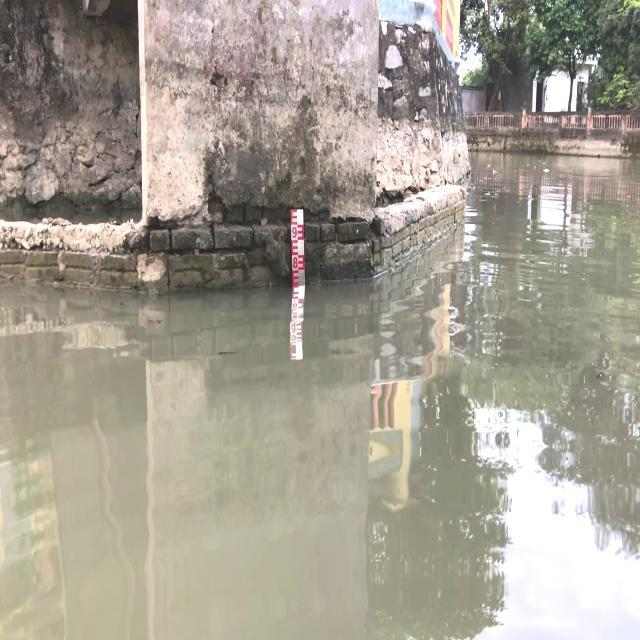ruler: (287, 203, 314, 293)
value: (291, 254, 299, 271), (290, 224, 298, 240)
